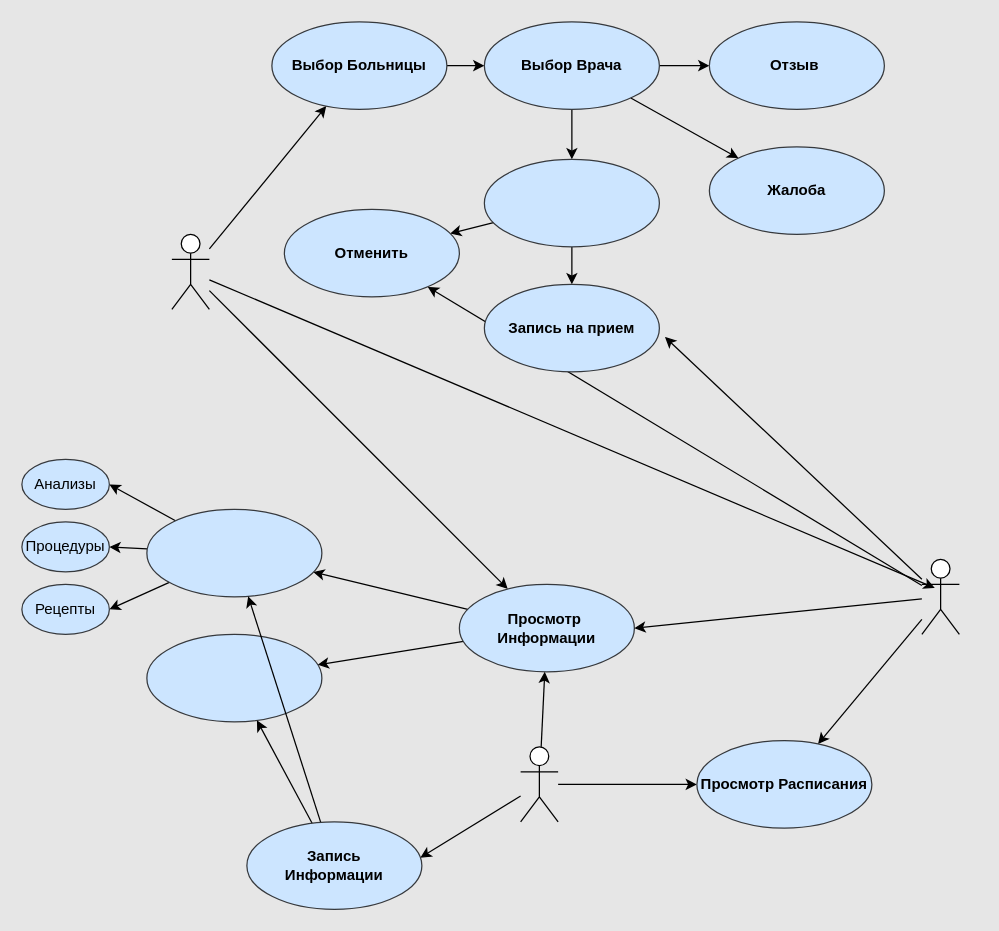
This 999x931 diagram has some shape labels left out. The shapes that lost their labels are listed below. From the top down, each one's centre as x and y in pixels, then its label:
the point at 571,202: Регистрация к Врачу
the point at 190,271: Пациент
the point at 234,552: Назначения Врача
the point at 940,596: Секретарь
the point at 234,677: История Болезни
the point at 538,784: Доктор
